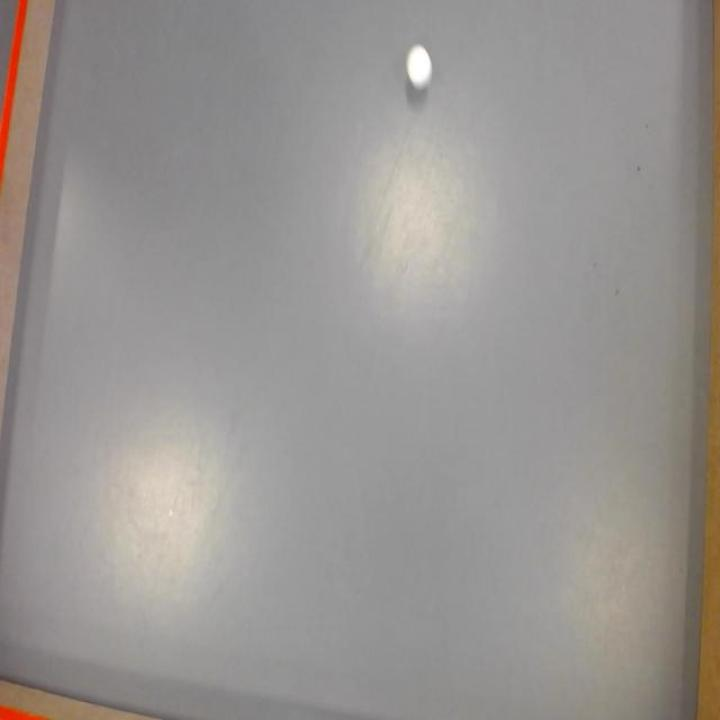white: (406, 45, 432, 89)
